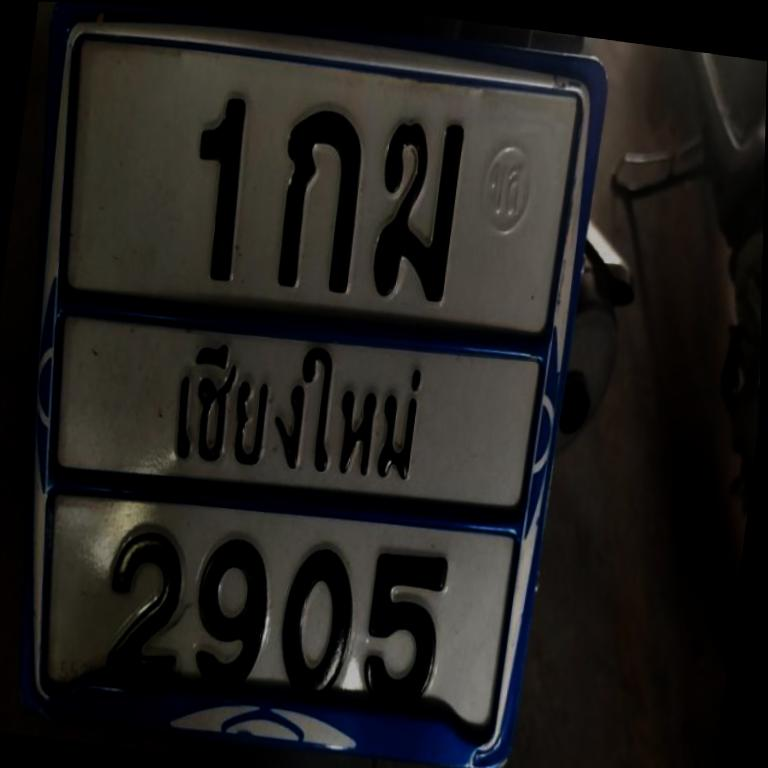license plate: (20, 2, 606, 768)
